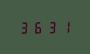one: (57, 19, 69, 33)
six: (31, 20, 43, 34)
three: (18, 20, 30, 34), (44, 20, 56, 33)
